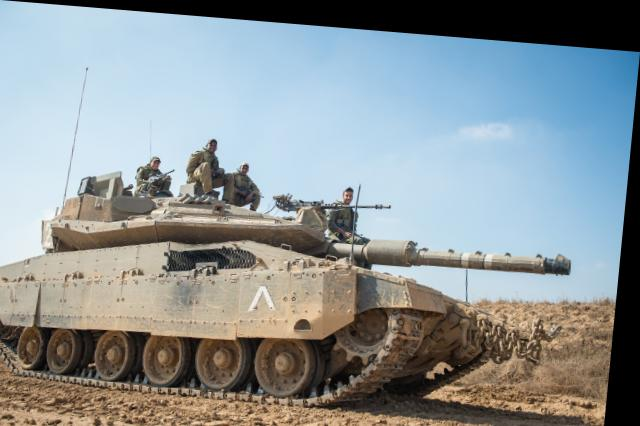other: (329, 176, 374, 245), (182, 137, 233, 190), (223, 150, 277, 198), (123, 152, 175, 195)
tank: (0, 160, 560, 424)
